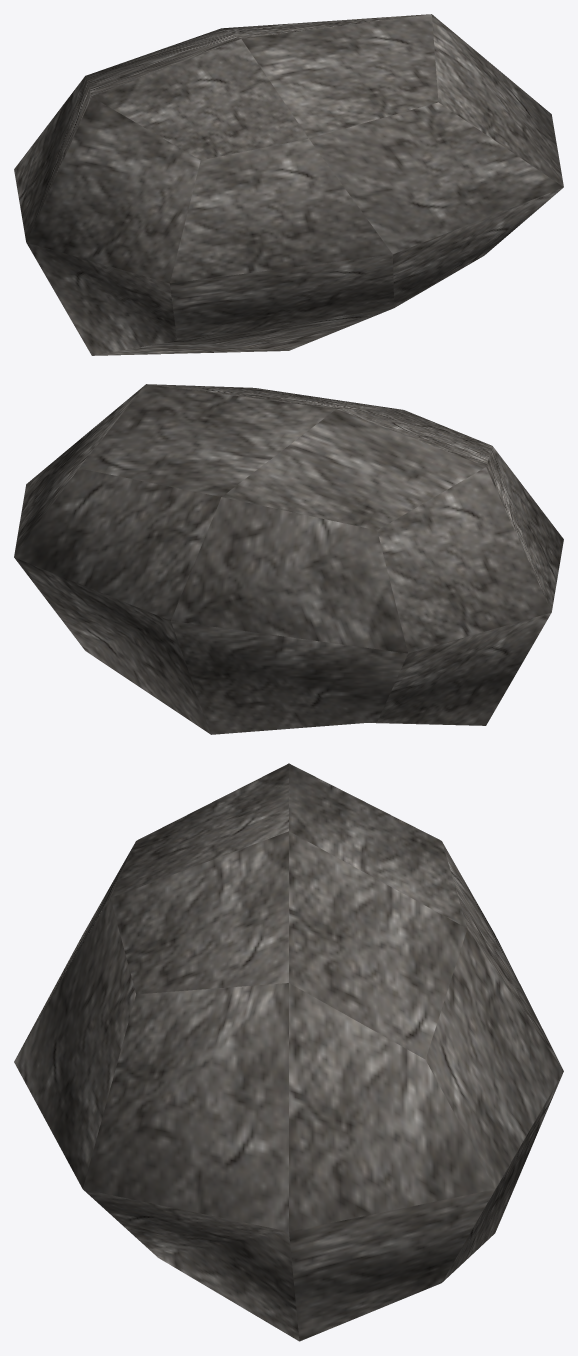
File: Mangonel Projectile.fbx
3 views of the same model, one above another, from view 1: azimuth 30°, elevation 25°; view 2: azimuth 150°, elevation 25°; view 3: azimuth 270°, elevation 25° (orthographic). The views are drawn at different scales.
Visible parts, largest first — view 1: polySurface216; view 2: polySurface216; view 3: polySurface216.
Boxes of the visible parts, x1,y1,x2,y2 form: polySurface216: [14, 14, 563, 355]; polySurface216: [14, 384, 563, 734]; polySurface216: [14, 763, 563, 1341].
Size of the model in its own units: 13.14 by 7.73 by 9.
Materials: 1 (1 with a texture image).
